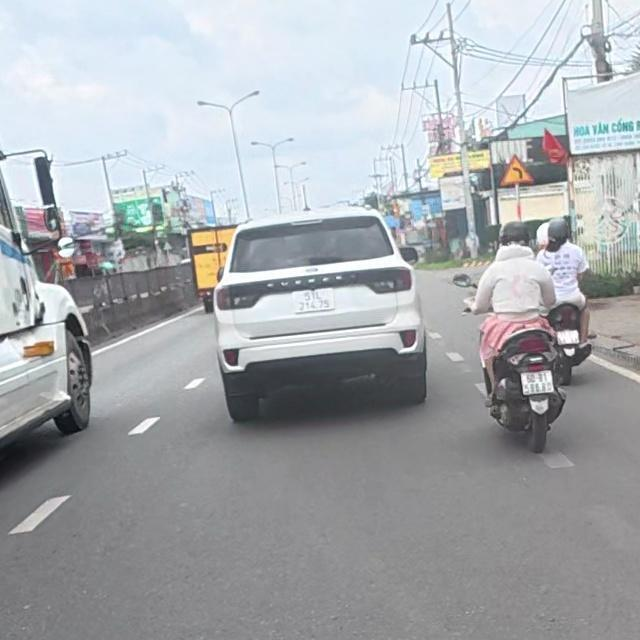car: (218, 207, 430, 423)
motorcycle: (492, 322, 559, 448), (548, 297, 596, 381)
plate: (292, 287, 342, 317), (518, 370, 559, 399), (556, 322, 580, 352)
